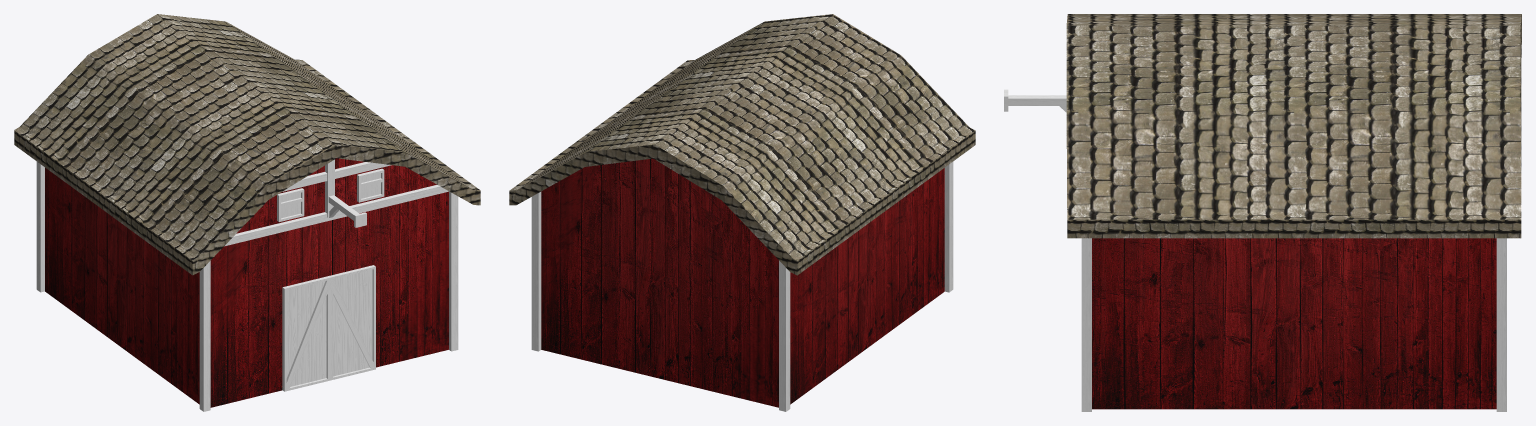
File: Barn#1.FBX
3 views of the same model, side by side, from view 1: azimuth 30°, elevation 25°; view 2: azimuth 150°, elevation 25°; view 3: azimuth 270°, elevation 25° (orthographic). The views are drawn at different scales.
Visible parts, largest first — view 1: Box002, Box001, Box016, Box007, Box003, Box004, Box005, Box018, Box008, Box014, Box012, Box017 (+3 smaller); view 2: Box001, Box002, Box005, Box006, Box003; view 3: Box002, Box001, Box004, Box006, Box010.
Boxes of the visible parts, box(x1,y1,x2,y2) form: Box002: box(14, 14, 480, 275); Box001: box(45, 158, 448, 407); Box016: box(282, 265, 375, 391); Box007: box(224, 185, 448, 246); Box003: box(199, 261, 210, 411); Box004: box(449, 191, 458, 351); Box005: box(36, 161, 44, 292); Box018: box(282, 280, 331, 388); Box008: box(282, 162, 391, 191); Box014: box(357, 168, 384, 202); Box012: box(277, 188, 304, 221); Box017: box(326, 279, 333, 378); Box001: box(541, 158, 944, 407); Box002: box(509, 14, 975, 275); Box005: box(779, 261, 790, 411); Box006: box(531, 191, 541, 351); Box003: box(944, 162, 953, 292); Box002: box(1066, 14, 1521, 238); Box001: box(1092, 238, 1496, 409); Box004: box(1081, 238, 1091, 411); Box006: box(1496, 238, 1506, 411); Box010: box(1004, 89, 1066, 111).
Size of the model in its own units: 205 by 164 by 251.
3 materials, 3 textured.
